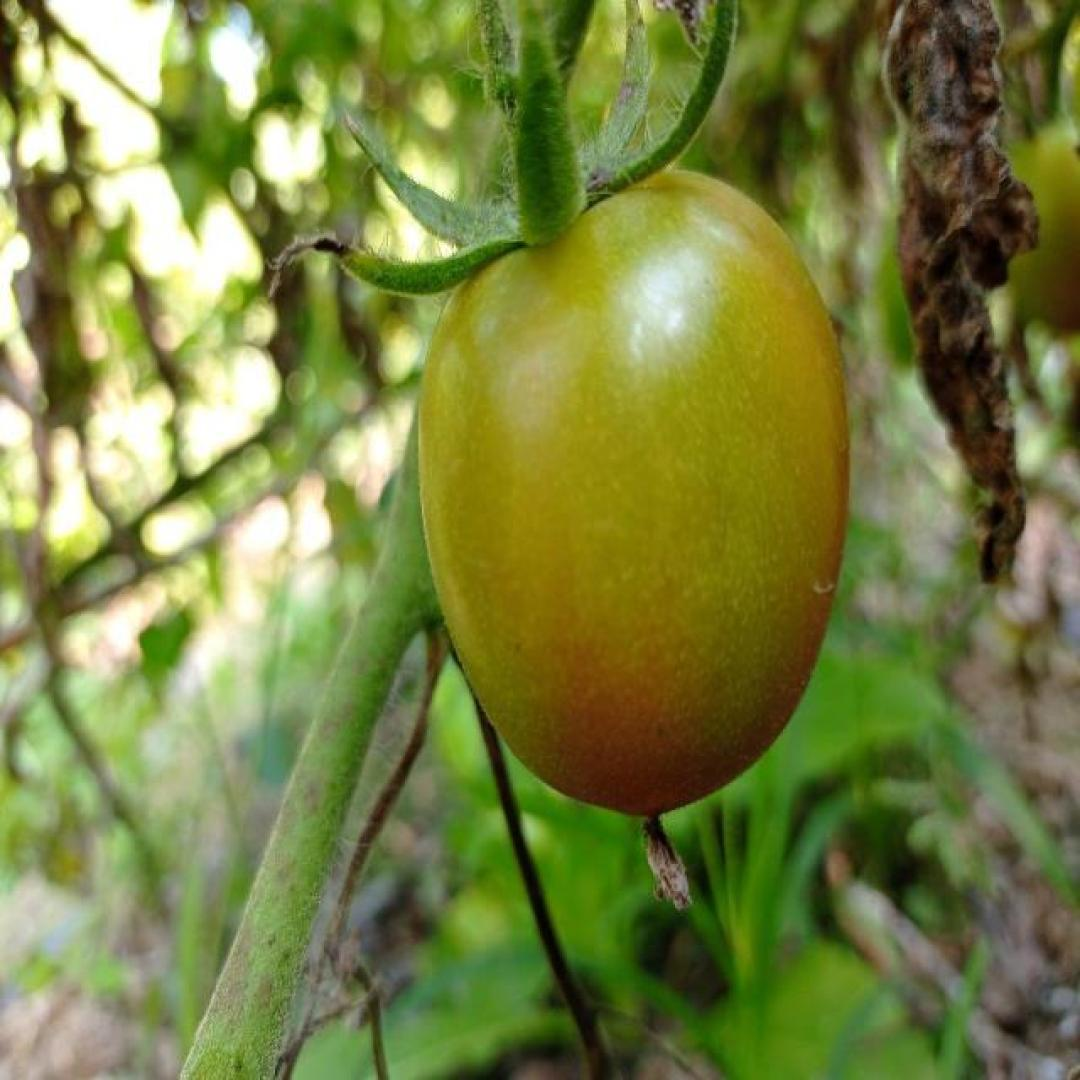setengah_matang: (410, 162, 854, 822)
